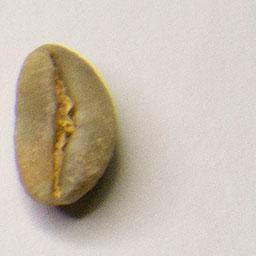longberry: (10, 41, 121, 210)
